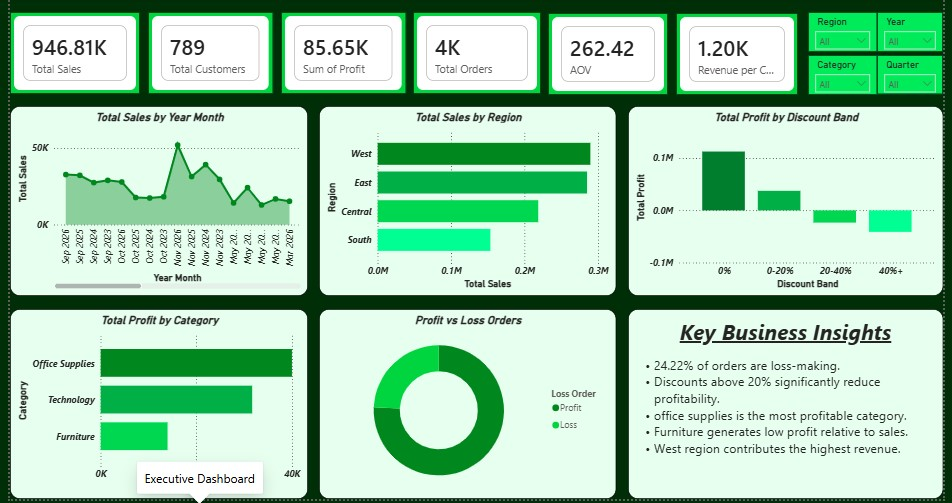

Layout of this report page (visuals, bound fields, positions):
{"tool":"powerbi","page":{"name":"Executive Dashboard","canvas":[1400,750],"ordinal":0},"visuals":[{"type":"cardVisual","fields":{"Data":["Date Table.Total Sales"]},"box":[0,19.5,195,123],"z":0},{"type":"cardVisual","fields":{"Data":["Sum(SSdataset.Profit)"]},"box":[406.5,19.5,187.5,123],"z":1000},{"type":"cardVisual","fields":{"Data":["Date Table.Total Orders"]},"box":[604.5,19.5,192,123],"z":2000},{"type":"cardVisual","fields":{"Data":["Date Table.Total Customers"]},"box":[207,19.5,187.5,123],"z":3000},{"type":"cardVisual","fields":{"Data":["Date Table.AOV"]},"box":[807,21,180,123],"z":4000},{"type":"cardVisual","fields":{"Data":["Date Table.Revenue per Customer"]},"box":[999,21,183,123],"z":5000},{"type":"lineChart","fields":{"Y":["Date Table.Total Sales"],"Category":["Date Table.Year Month"]},"box":[0,160.5,447,285],"z":6000},{"type":"clusteredBarChart","fields":{"Category":["SSdataset.Region"],"Y":["Date Table.Total Sales"]},"box":[463.5,160.5,445.5,285],"z":7000},{"type":"clusteredBarChart","fields":{"Category":["SSdataset.Category"],"Y":["Date Table.Total Profit"]},"box":[0,465,447,285],"z":8000},{"type":"columnChart","fields":{"Category":["SSdataset.Discount Band"],"Y":["Date Table.Total Profit"]},"box":[927,160.5,472.5,285],"z":9000},{"type":"donutChart","title":"Profit vs Loss Orders","fields":{"Category":["SSdataset.Loss Order"],"Y":["CountNonNull(SSdataset.Order ID)"]},"box":[463.5,465,445.5,285],"z":10000},{"type":"textbox","box":[927,465,472.5,285],"z":11000},{"type":"slicer","fields":{"Values":["SSdataset.Region"]},"box":[1197,19.5,103.5,60],"z":12000},{"type":"slicer","fields":{"Values":["SSdataset.Category"]},"box":[1197,84,103.5,60],"z":13000},{"type":"slicer","fields":{"Values":["Date Table.Year"]},"box":[1300.5,19.5,99,60],"z":14000},{"type":"slicer","fields":{"Values":["Date Table.Quarter"]},"box":[1300.5,84,99,58.5],"z":15000}]}

Visuals, with their boxes in screenshot pixels (x1, y1, x2, y2), scaled from the page's 1400x750 canvas onto the 952x503 screenshot:
cardVisual - Date Table.Total Sales: 0,13,133,96
cardVisual - Sum(SSdataset.Profit): 276,13,404,96
cardVisual - Date Table.Total Orders: 411,13,542,96
cardVisual - Date Table.Total Customers: 141,13,268,96
cardVisual - Date Table.AOV: 549,14,671,97
cardVisual - Date Table.Revenue per Customer: 679,14,804,97
lineChart - Date Table.Total Sales x Date Table.Year Month: 0,108,304,299
clusteredBarChart - SSdataset.Region x Date Table.Total Sales: 315,108,618,299
clusteredBarChart - SSdataset.Category x Date Table.Total Profit: 0,312,304,502
columnChart - SSdataset.Discount Band x Date Table.Total Profit: 630,108,951,299
"Profit vs Loss Orders" donutChart: 315,312,618,502
textbox: 630,312,951,502
slicer - SSdataset.Region: 814,13,884,53
slicer - SSdataset.Category: 814,56,884,97
slicer - Date Table.Year: 884,13,951,53
slicer - Date Table.Quarter: 884,56,951,96
